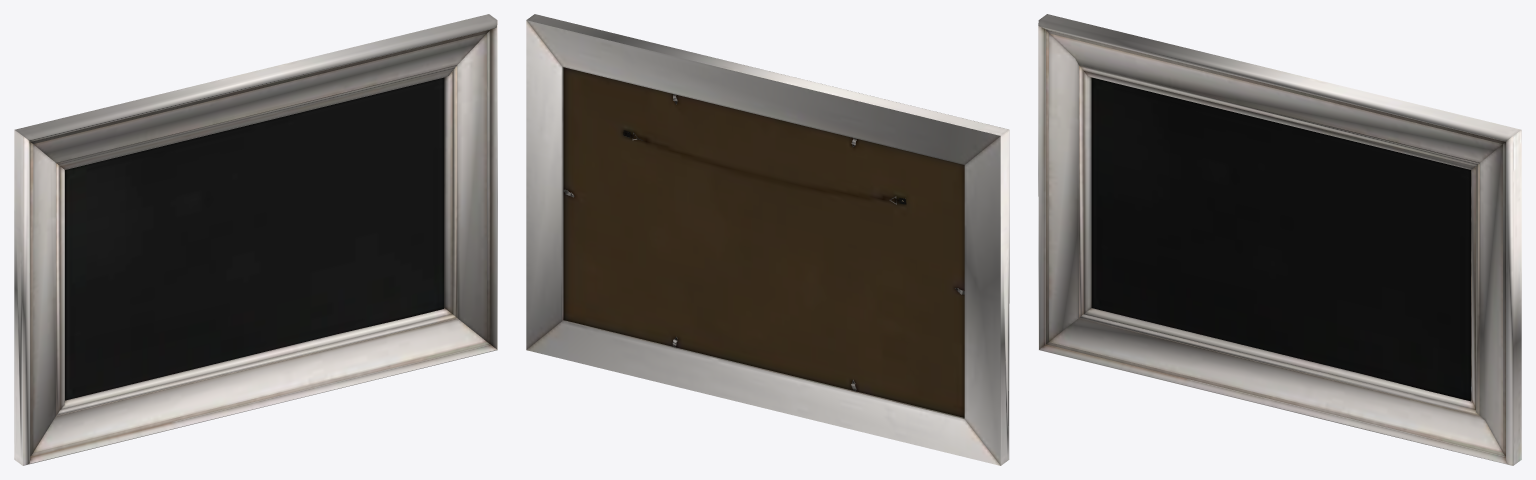
Rendered from hanging_picture_frame_02.glb.
3 renders of one model, left to right at view 1: azimuth 30°, elevation 25°; view 2: azimuth 150°, elevation 25°; view 3: azimuth 330°, elevation 25°, orthographic.
Parts seen in each view (by area): view 1: hanging_picture_frame_02; view 2: hanging_picture_frame_02; view 3: hanging_picture_frame_02.
Part boxes in pixels (x1=…): hanging_picture_frame_02: x1=14, y1=14, x2=497, y2=465; hanging_picture_frame_02: x1=526, y1=14, x2=1009, y2=465; hanging_picture_frame_02: x1=1038, y1=14, x2=1521, y2=465.
Size of the model in its own units: 0.7512 by 0.4988 by 0.0322.
3 materials, 3 textured.
